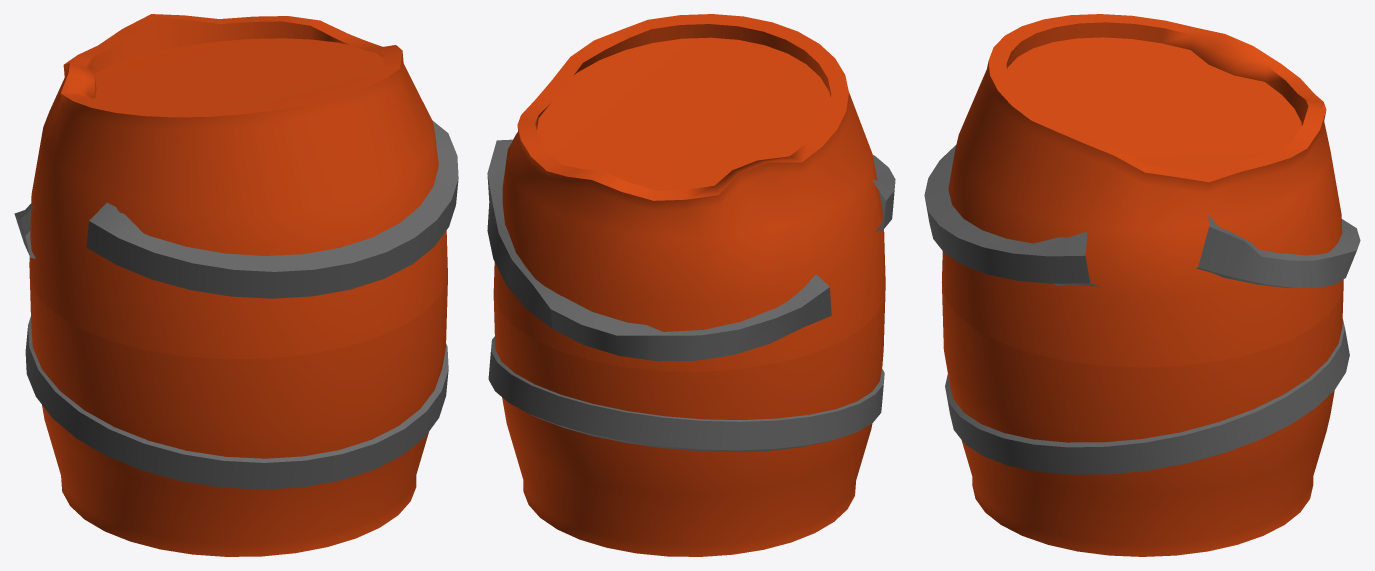
The model's file is Barrel_Damaged.glb.
3 views of the same model, side by side, from view 1: azimuth 30°, elevation 25°; view 2: azimuth 150°, elevation 25°; view 3: azimuth 270°, elevation 25° (orthographic). The views are drawn at different scales.
Parts seen in each view (by area): view 1: Circle, Circle.001, Circle.002; view 2: Circle, Circle.001, Circle.002; view 3: Circle, Circle.001, Circle.002.
Boxes of the visible parts, x1,y1,x2,y2 form: Circle: (29,14,447,556); Circle.001: (14,120,458,298); Circle.002: (25,316,448,489); Circle: (493,14,885,556); Circle.001: (487,139,895,361); Circle.002: (488,336,884,452); Circle: (941,14,1343,556); Circle.001: (924,145,1360,287); Circle.002: (945,319,1349,474).
Bounding box in the file's own units: 1.77 × 2.02 × 1.9.
